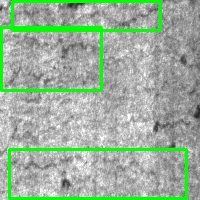crazing: (9, 149, 186, 198), (1, 27, 101, 90), (12, 1, 160, 30)
